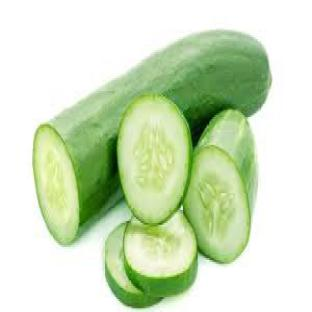Cucumber: (34, 30, 271, 243), (184, 110, 257, 261), (118, 95, 192, 224), (124, 212, 197, 297), (105, 223, 160, 308)
